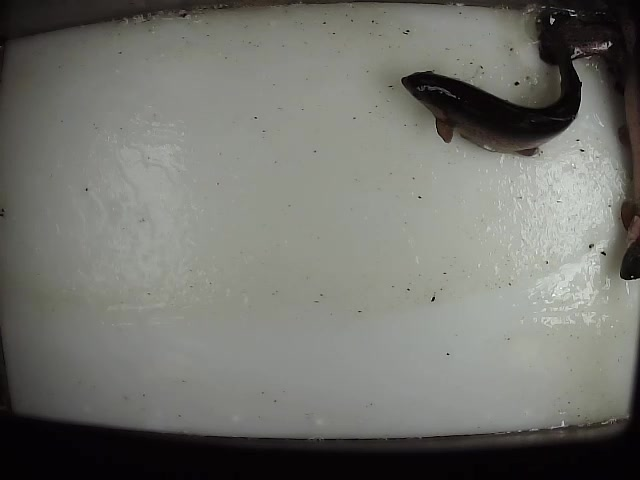fish: (400, 11, 581, 159)
